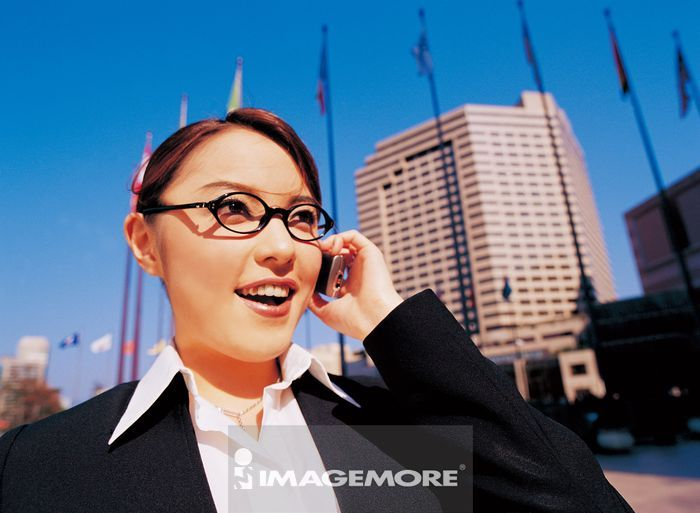talk: (193, 173, 390, 366)
